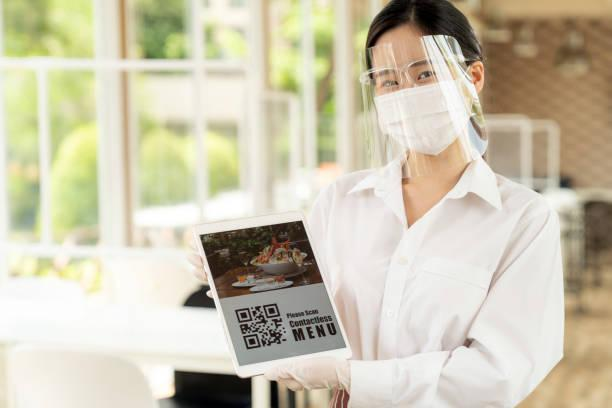Finder pattern: (242, 332, 263, 352), (234, 307, 255, 325), (262, 302, 281, 320)
